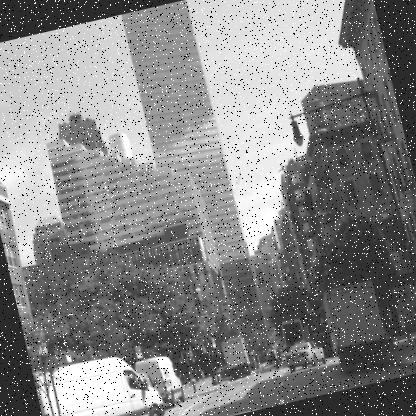Car: (283, 340, 326, 374)
